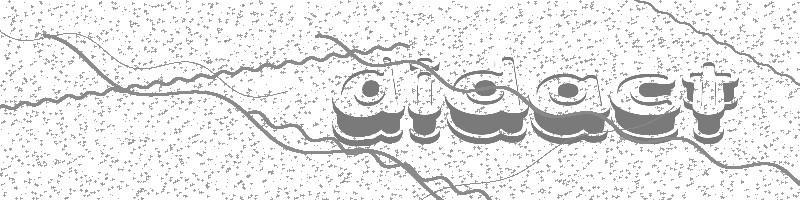a: (529, 68, 612, 144)
c: (611, 71, 681, 143)
d: (443, 52, 528, 144), (328, 55, 406, 146)
i: (406, 55, 444, 146)
t: (680, 59, 740, 145)
